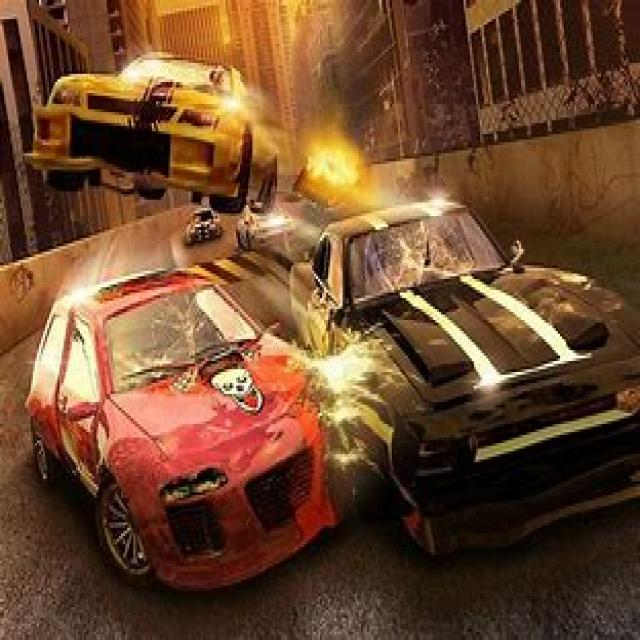Accident: (76, 106, 462, 582)
